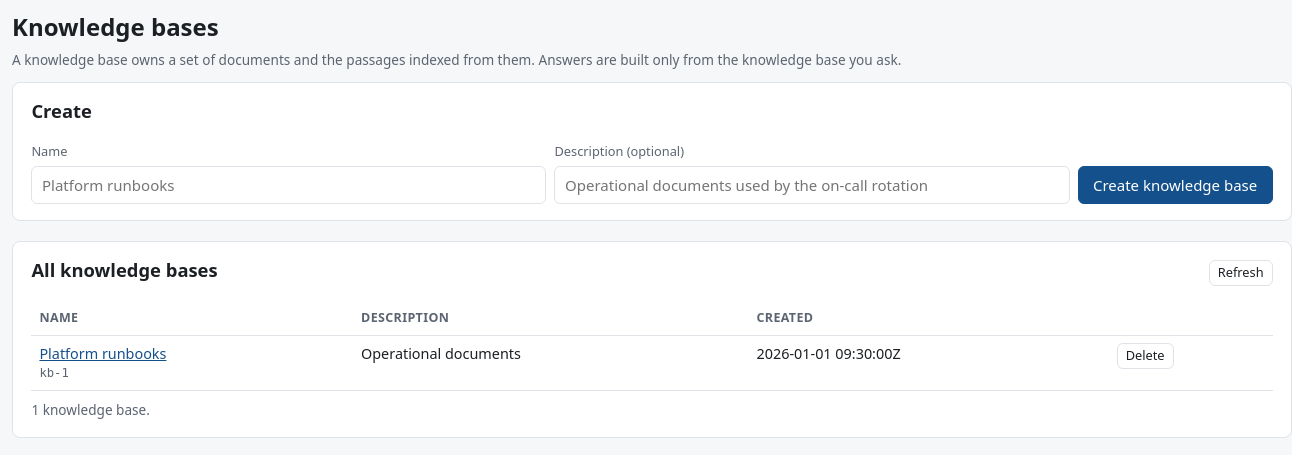
Test: KnowledgeBasesPage › can back out of a delete
This screenshot has width=1292, height=455.
Expected: the link "Platform runbooks" is shown, [39, 344, 166, 363]
Step 1. Click the button "Delete" → coordinates (1145, 356), box [1117, 343, 1174, 369]
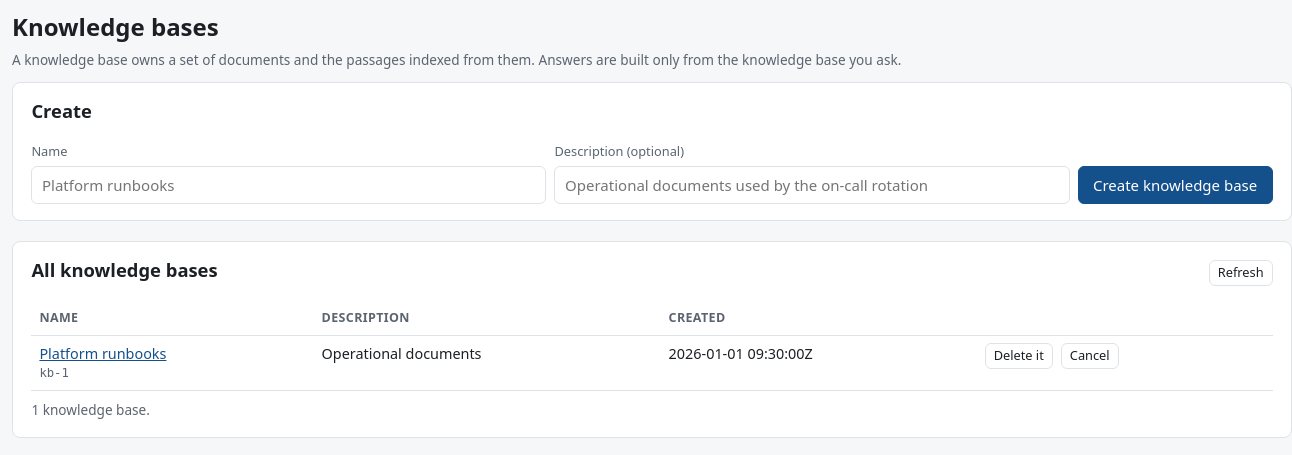
Step 2. Click the button "Cancel" → coordinates (1090, 356), box [1061, 343, 1119, 369]
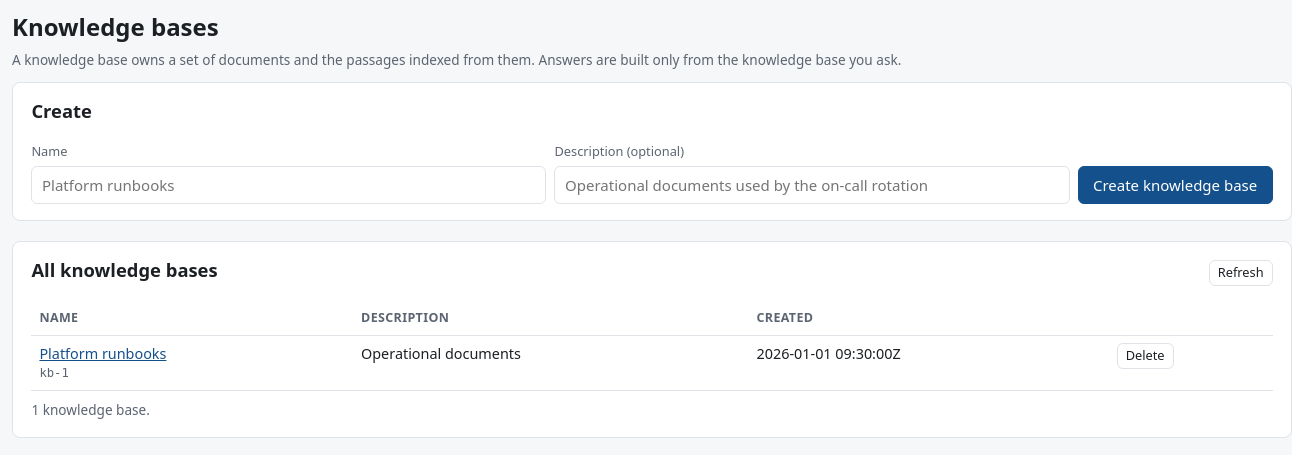
Expected: the button "Delete it" is gone
